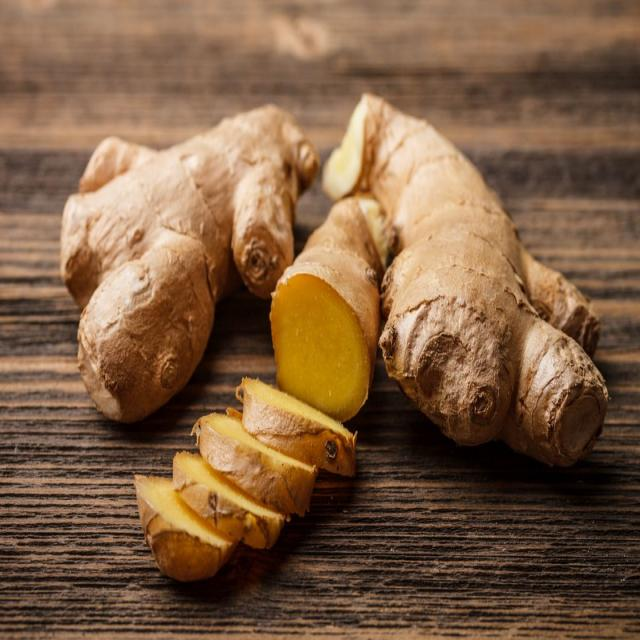Ginger: (293, 92, 603, 460), (32, 82, 313, 424), (140, 372, 367, 584)
